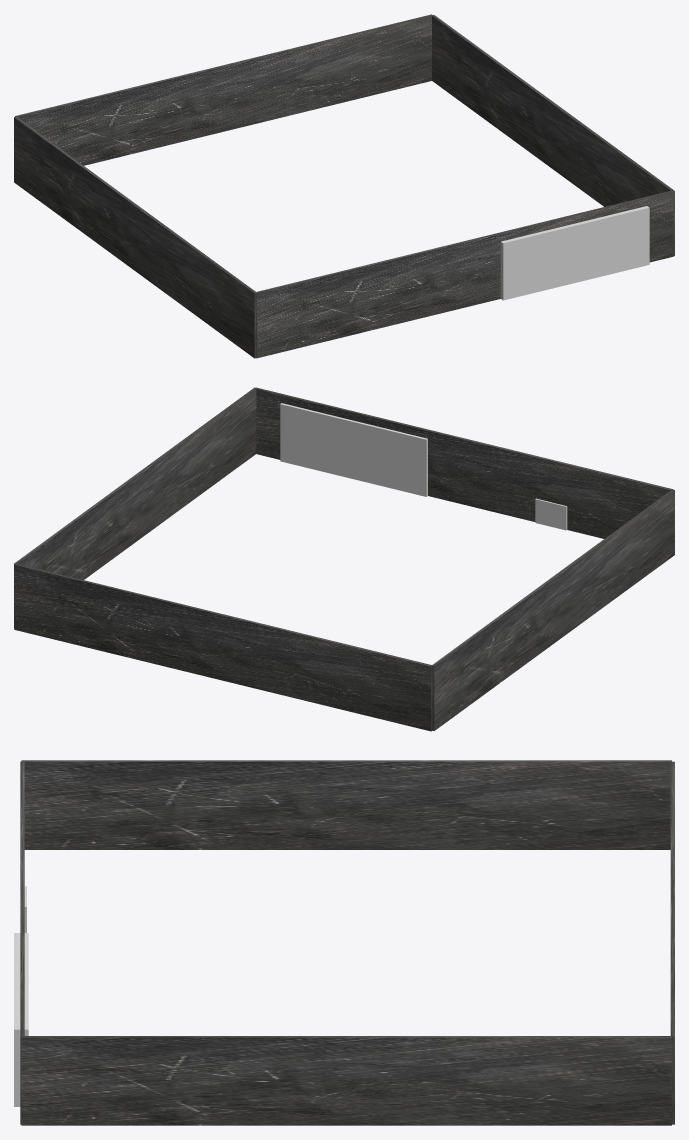
Rendered from walls.FBX.
3 renders of one model, top to bottom at view 1: azimuth 30°, elevation 25°; view 2: azimuth 150°, elevation 25°; view 3: azimuth 270°, elevation 25°, orthographic. The views are drawn at different scales.
Parts seen in each view (by area): view 1: Box004, Box005, Box003, Box006, Box008; view 2: Box004, Box003, Box005, Box006, Box008, Box007; view 3: Box006, Box003, Box008, Box004, Box005.
Boxes of the visible parts, x1=… form: Box004: x1=15, y1=14, x2=432, y2=165; Box005: x1=256, y1=190, x2=673, y2=358; Box003: x1=14, y1=117, x2=256, y2=358; Box006: x1=432, y1=15, x2=674, y2=256; Box008: x1=500, y1=206, x2=649, y2=300; Box004: x1=14, y1=563, x2=432, y2=731; Box003: x1=432, y1=489, x2=674, y2=730; Box005: x1=255, y1=387, x2=672, y2=538; Box006: x1=14, y1=387, x2=256, y2=628; Box008: x1=280, y1=403, x2=427, y2=496; Box007: x1=535, y1=498, x2=567, y2=530; Box006: x1=21, y1=1036, x2=671, y2=1125; Box003: x1=21, y1=760, x2=671, y2=849; Box008: x1=14, y1=933, x2=28, y2=1106; Box004: x1=670, y1=761, x2=674, y2=1124; Box005: x1=20, y1=761, x2=24, y2=1124.
Size of the model in its own units: 532 by 78.68 by 536.
Materials: 1 (1 with a texture image).
